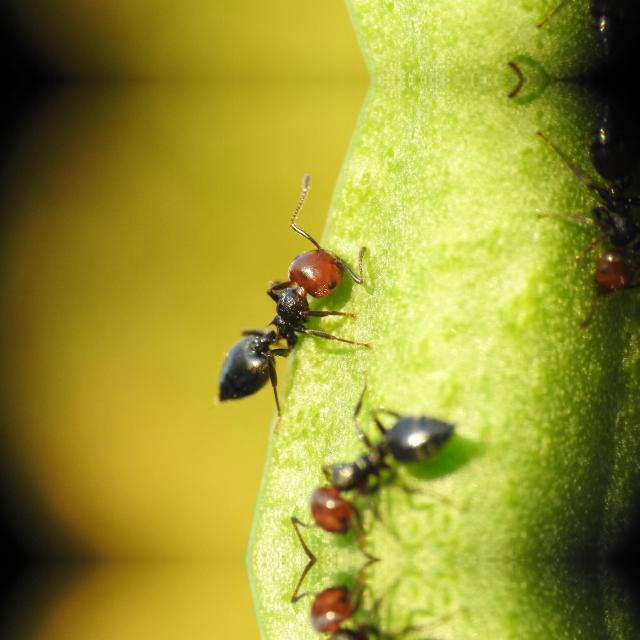Crematogaster: (292, 376, 468, 560), (214, 225, 366, 405), (567, 95, 639, 331), (291, 560, 468, 640), (567, 0, 639, 65)
